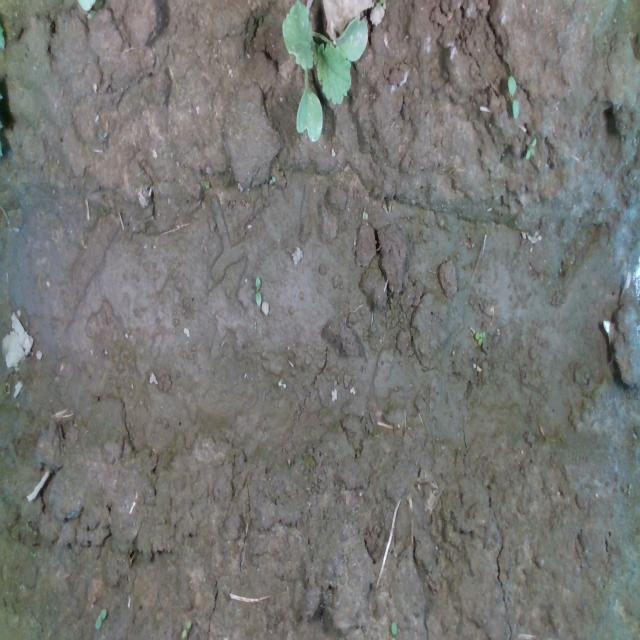weed: (251, 273, 264, 306), (526, 137, 540, 163), (473, 324, 487, 348)
